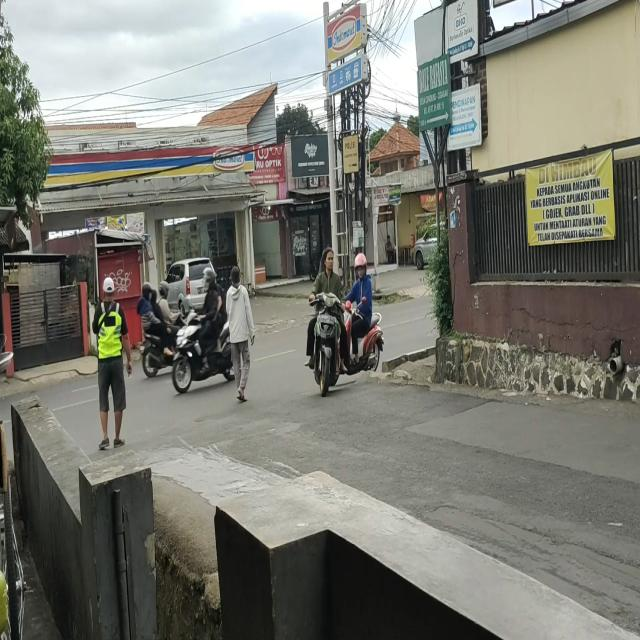helmet: (203, 267, 217, 291), (142, 281, 154, 305), (355, 255, 367, 278), (159, 281, 170, 299)
no-helmet: (323, 248, 334, 270)
